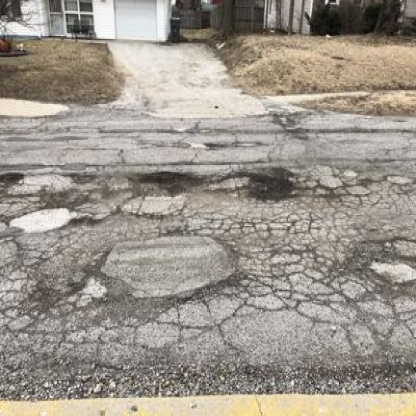pothole: (122, 162, 224, 204), (10, 192, 87, 240), (238, 160, 306, 207)
